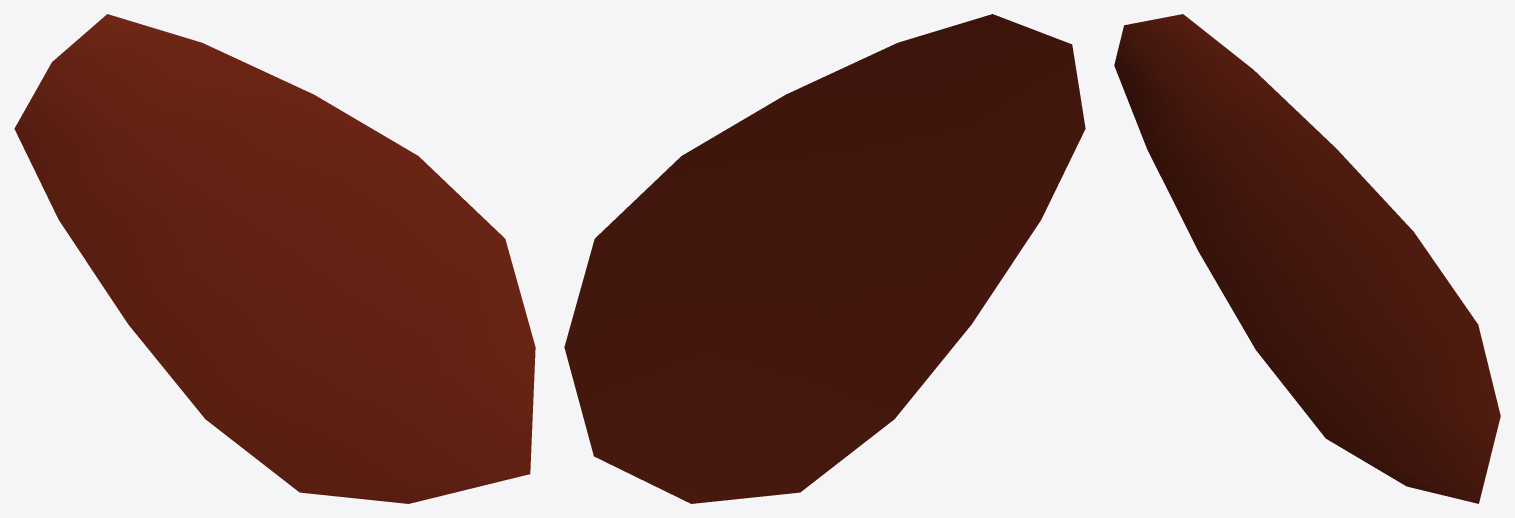
The model's file is pheasant_feather_flight_tertiary_036.obj.
The picture shows the model from 3 angles, left to right: view 1: azimuth 30°, elevation 25°; view 2: azimuth 150°, elevation 25°; view 3: azimuth 330°, elevation 25°; orthographic projection. The views are drawn at different scales.
Visible parts, largest first — view 1: feather_flight_tertiary_036; view 2: feather_flight_tertiary_036; view 3: feather_flight_tertiary_036.
Boxes of the visible parts, x1,y1,x2,y2 form: feather_flight_tertiary_036: [14, 14, 535, 503]; feather_flight_tertiary_036: [564, 14, 1085, 503]; feather_flight_tertiary_036: [1114, 14, 1500, 503].
Size of the model in its own units: 0.0157 by 0.0163 by 0.000634.
